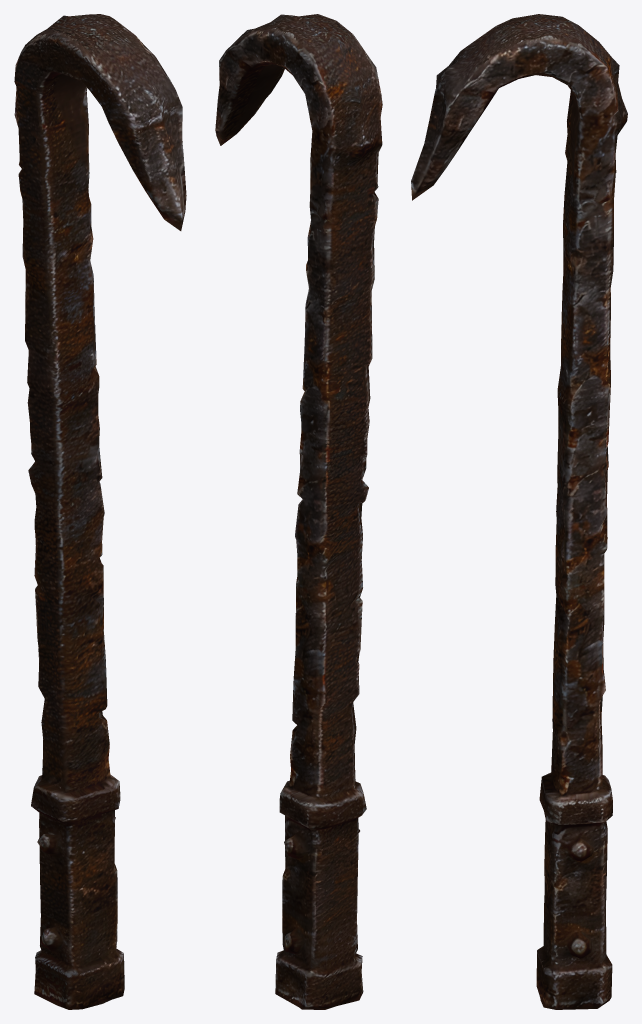
File: raw_bar.glb
The picture shows the model from 3 angles, left to right: view 1: azimuth 30°, elevation 25°; view 2: azimuth 210°, elevation 25°; view 3: azimuth 270°, elevation 25°; orthographic projection. The views are drawn at different scales.
Parts seen in each view (by area): view 1: tripo_node_7a4f6f3e-2766-4a5a-82c5-46855a945c3e; view 2: tripo_node_7a4f6f3e-2766-4a5a-82c5-46855a945c3e; view 3: tripo_node_7a4f6f3e-2766-4a5a-82c5-46855a945c3e.
Part boxes in pixels (x1,y1,x2,y2): tripo_node_7a4f6f3e-2766-4a5a-82c5-46855a945c3e: (14,14,186,1009); tripo_node_7a4f6f3e-2766-4a5a-82c5-46855a945c3e: (215,14,382,1009); tripo_node_7a4f6f3e-2766-4a5a-82c5-46855a945c3e: (411,14,627,1009).
Bounding box in the file's own units: 0.0954 × 1 × 0.2026.
1 material, 1 textured.
